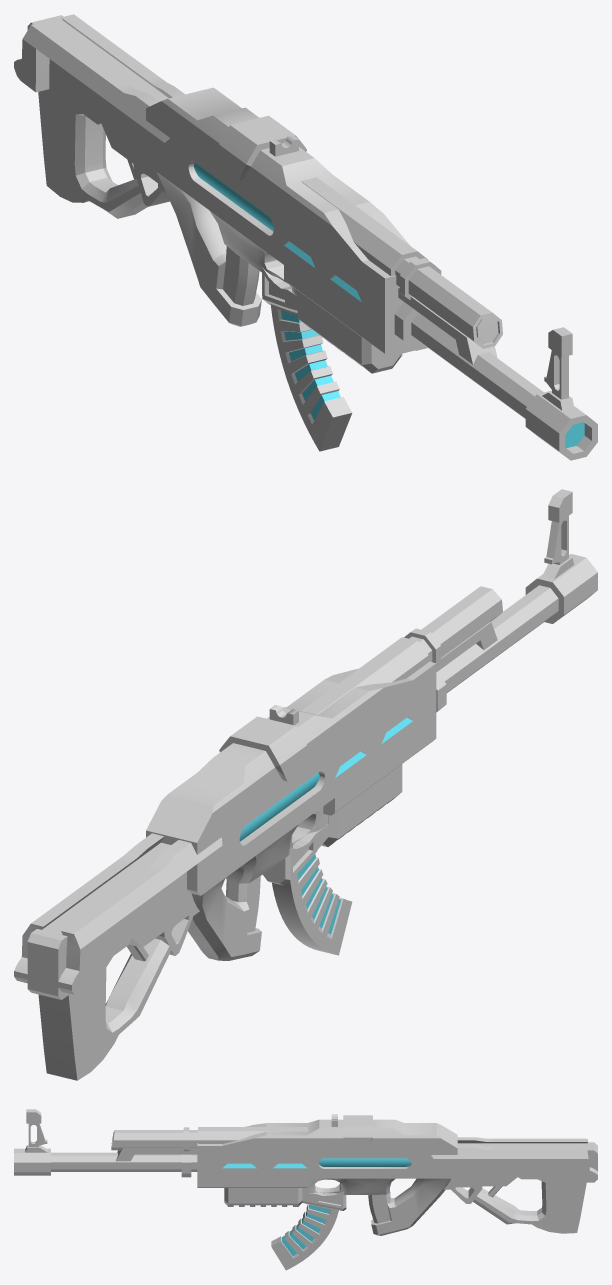
The picture shows the model from 3 angles, top to bottom: view 1: azimuth 30°, elevation 25°; view 2: azimuth 150°, elevation 25°; view 3: azimuth 270°, elevation 25°; orthographic projection. The views are drawn at different scales.
Visible parts, largest first — view 1: AR; view 2: AR; view 3: AR.
Part boxes in pixels (x1,y1,x2,y2): AR: (14, 14, 597, 460); AR: (14, 489, 597, 1080); AR: (14, 1109, 597, 1270).
Bounding box in the file's own units: 123 × 560 × 1884.
